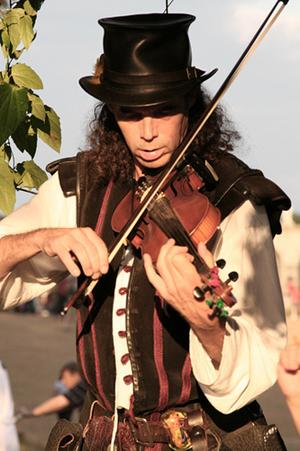person: (1, 15, 290, 451)
